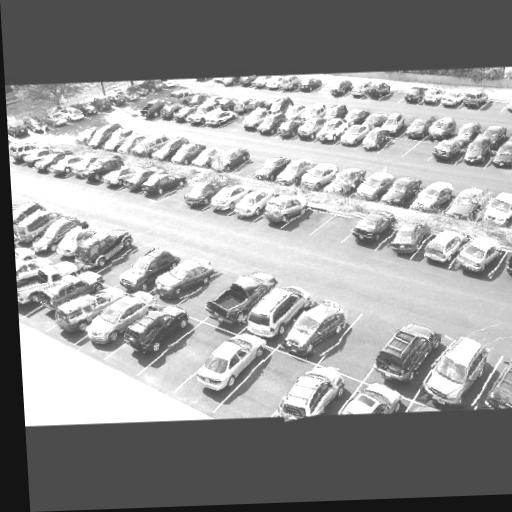busy: (418, 333, 495, 408), (278, 296, 349, 359), (189, 336, 266, 393), (244, 283, 308, 343), (204, 272, 275, 326), (276, 368, 348, 420), (372, 325, 434, 385), (125, 305, 190, 357), (90, 293, 150, 345), (153, 255, 215, 304), (54, 287, 114, 334), (78, 229, 134, 270), (118, 251, 175, 291), (323, 384, 396, 415), (454, 234, 504, 277), (42, 273, 99, 310), (16, 260, 63, 304), (480, 352, 512, 411), (384, 220, 433, 257), (32, 219, 84, 252), (348, 212, 395, 247), (15, 209, 68, 240), (410, 180, 456, 215), (424, 230, 467, 266), (262, 192, 308, 225), (81, 153, 123, 184), (56, 226, 101, 254), (327, 167, 366, 199), (481, 189, 512, 229), (236, 189, 277, 219), (381, 177, 420, 208), (355, 170, 394, 201), (448, 189, 487, 220), (182, 180, 223, 209), (300, 163, 338, 192), (144, 172, 185, 198), (85, 124, 125, 149), (211, 186, 250, 211), (130, 133, 168, 157), (214, 149, 251, 173), (54, 154, 91, 178), (276, 160, 311, 185), (125, 168, 161, 192), (460, 140, 493, 166), (31, 148, 66, 172), (427, 116, 460, 141), (316, 119, 347, 145), (432, 139, 465, 163), (105, 165, 138, 189), (156, 138, 188, 162), (254, 158, 287, 180), (361, 130, 393, 152), (173, 143, 206, 164), (297, 118, 325, 142), (12, 203, 42, 225), (105, 129, 136, 150), (8, 142, 40, 162), (380, 113, 409, 135), (454, 123, 484, 144), (138, 99, 169, 119), (407, 117, 434, 139), (276, 118, 303, 140), (341, 126, 369, 146), (194, 148, 223, 167), (242, 111, 267, 132), (366, 82, 393, 101), (265, 98, 293, 116), (173, 102, 198, 122), (328, 79, 354, 98), (463, 89, 489, 108), (259, 116, 285, 135), (231, 97, 260, 114), (207, 113, 237, 129), (493, 144, 512, 169), (22, 115, 46, 134), (441, 89, 466, 107), (7, 120, 30, 139), (59, 106, 86, 122), (343, 109, 369, 125), (301, 104, 327, 120), (420, 89, 444, 106), (162, 104, 186, 121), (325, 104, 350, 119), (404, 88, 426, 105), (42, 113, 66, 128), (126, 85, 150, 100), (366, 113, 388, 129), (280, 76, 302, 92), (301, 78, 324, 93), (171, 89, 195, 103), (95, 98, 116, 114), (287, 104, 309, 119), (75, 102, 98, 116), (187, 94, 210, 108), (350, 82, 371, 97), (216, 98, 238, 112), (504, 245, 512, 281), (221, 77, 244, 87), (266, 78, 283, 91), (241, 76, 258, 87), (252, 77, 269, 88), (505, 98, 512, 114)
free: (337, 330, 380, 363), (166, 342, 207, 371), (250, 374, 287, 402), (111, 256, 140, 274), (196, 285, 225, 303), (328, 222, 351, 237), (299, 215, 321, 229), (227, 117, 245, 132), (413, 147, 433, 159), (175, 186, 192, 199), (247, 163, 264, 174), (391, 143, 407, 154), (492, 102, 504, 109), (390, 95, 401, 102)
